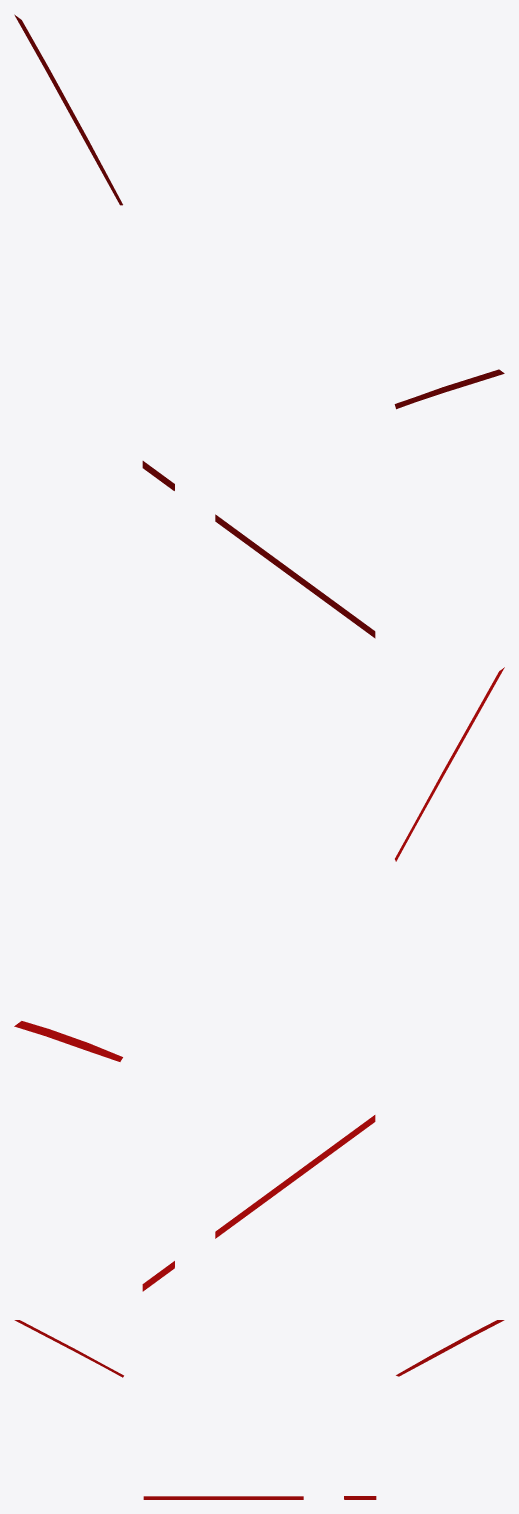
The model's file is ambient_light_1.fbx.
3 renders of one model, top to bottom at view 1: azimuth 30°, elevation 25°; view 2: azimuth 150°, elevation 25°; view 3: azimuth 270°, elevation 25°, orthographic. The views are drawn at different scales.
Visible parts, largest first — view 1: ambient_light_1; view 2: ambient_light_1; view 3: ambient_light_1.
Boxes of the visible parts, box(x1,y1,x2,y2) form: ambient_light_1: box(14, 14, 504, 638); ambient_light_1: box(14, 667, 504, 1291); ambient_light_1: box(14, 1320, 504, 1499).
Size of the model in its own units: 7.87e-06 by 64.24 by 159.
